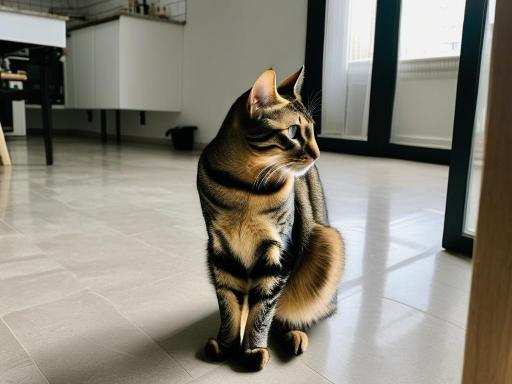cat_sitting: (197, 66, 344, 369)
